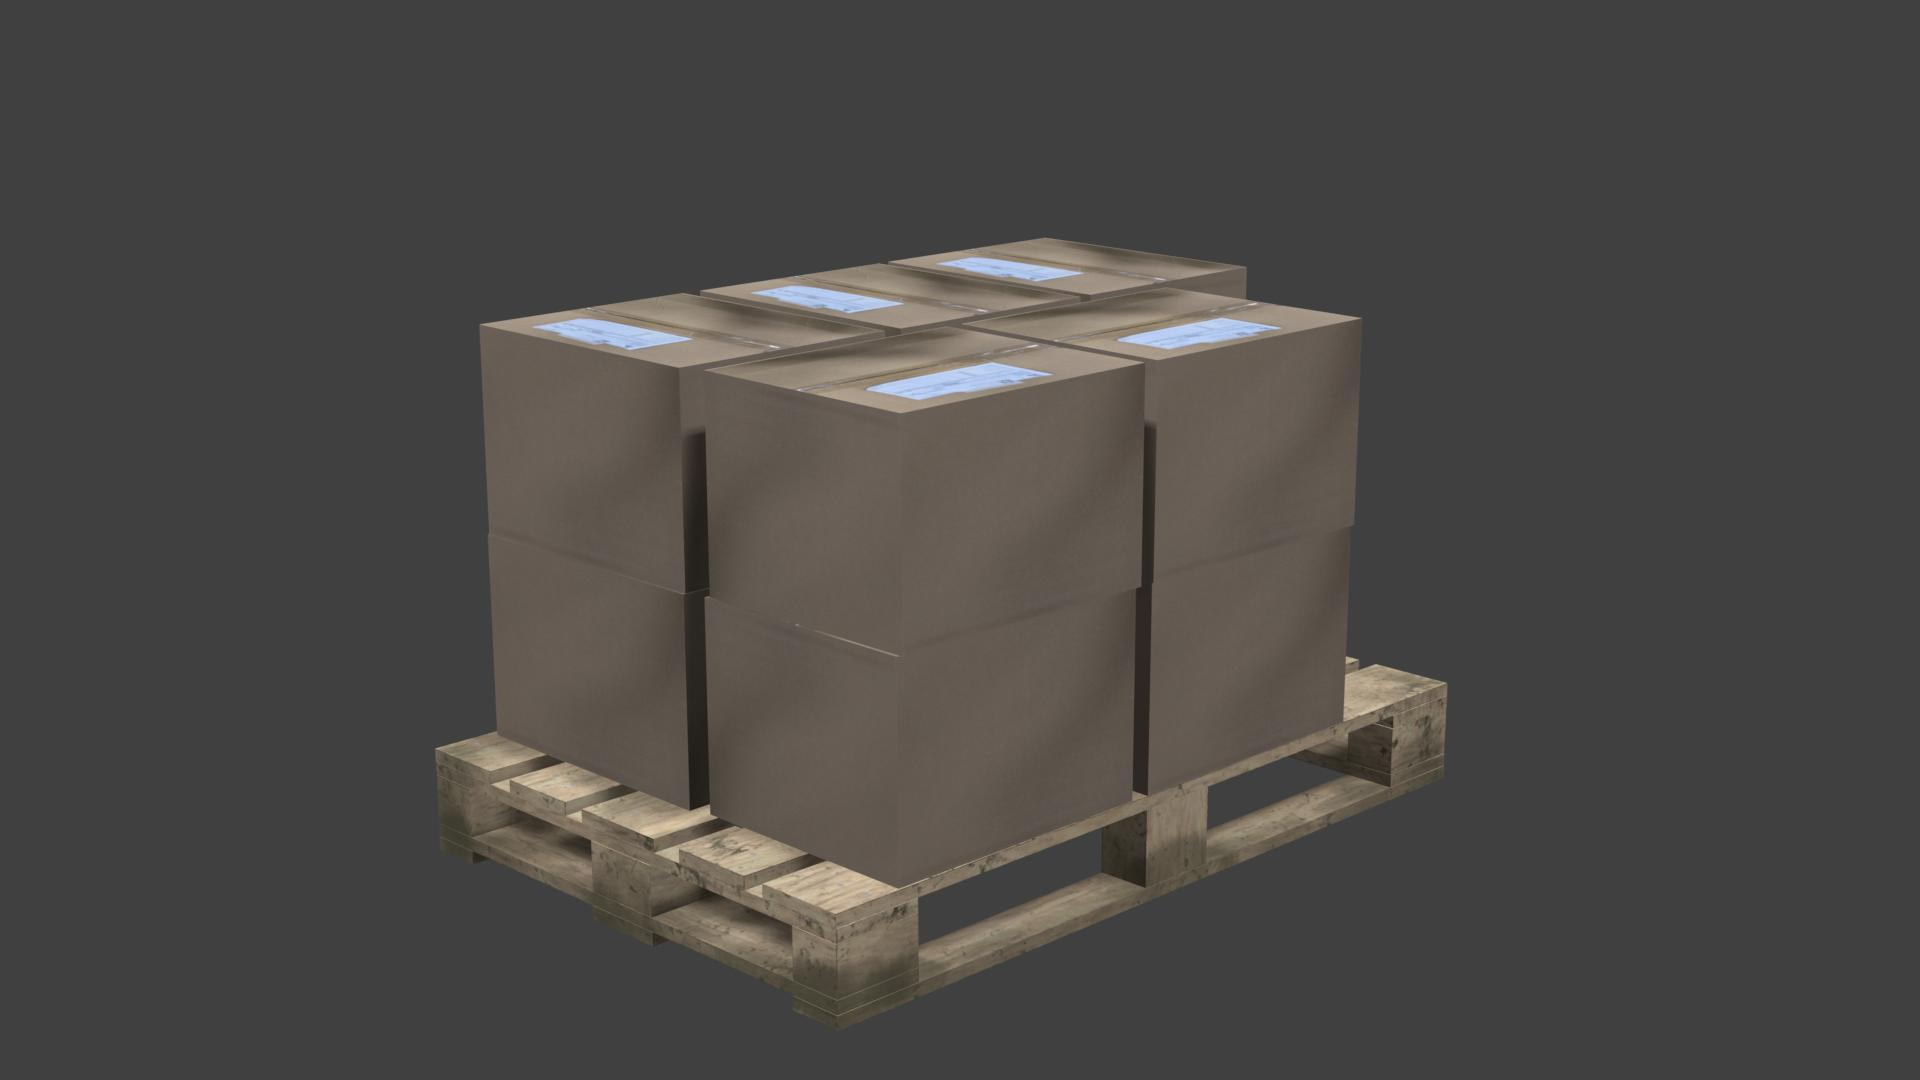group_box_left: (705, 589, 1135, 889), (705, 364, 1143, 654), (488, 535, 709, 811), (480, 327, 708, 592), (1135, 526, 1350, 798), (1153, 320, 1364, 582)
group_box_top: (708, 327, 1141, 413), (487, 291, 882, 369), (968, 287, 1360, 360), (703, 262, 1079, 328), (890, 236, 1245, 294)
palet: (435, 655, 1449, 1033)
